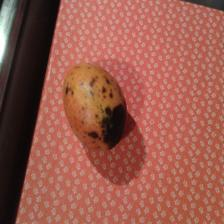Mango Semirotten: (59, 61, 129, 153)
